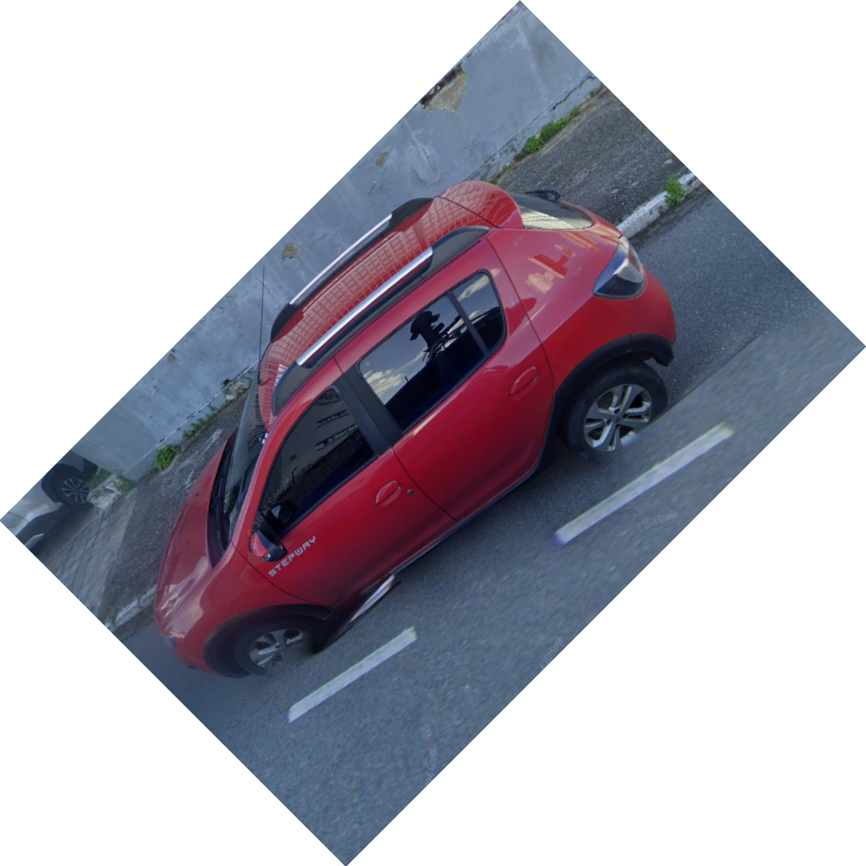car: (153, 179, 681, 684)
